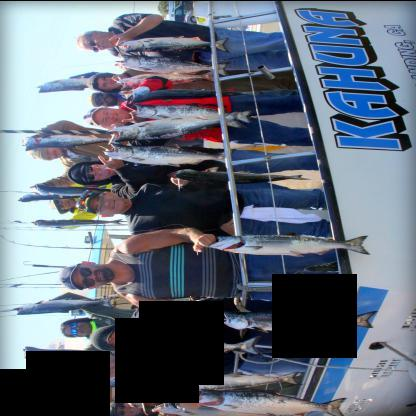fish: (210, 231, 372, 257), (106, 110, 246, 140), (194, 388, 345, 415), (122, 335, 258, 362), (216, 310, 376, 332), (102, 142, 233, 166), (179, 370, 301, 392), (166, 166, 312, 184), (126, 103, 254, 123), (117, 54, 230, 75), (115, 68, 220, 90), (14, 295, 115, 314), (21, 132, 125, 150), (119, 35, 230, 51), (74, 372, 162, 392), (36, 74, 112, 92), (22, 346, 110, 359), (33, 184, 123, 196), (18, 190, 106, 202), (32, 218, 124, 229)
